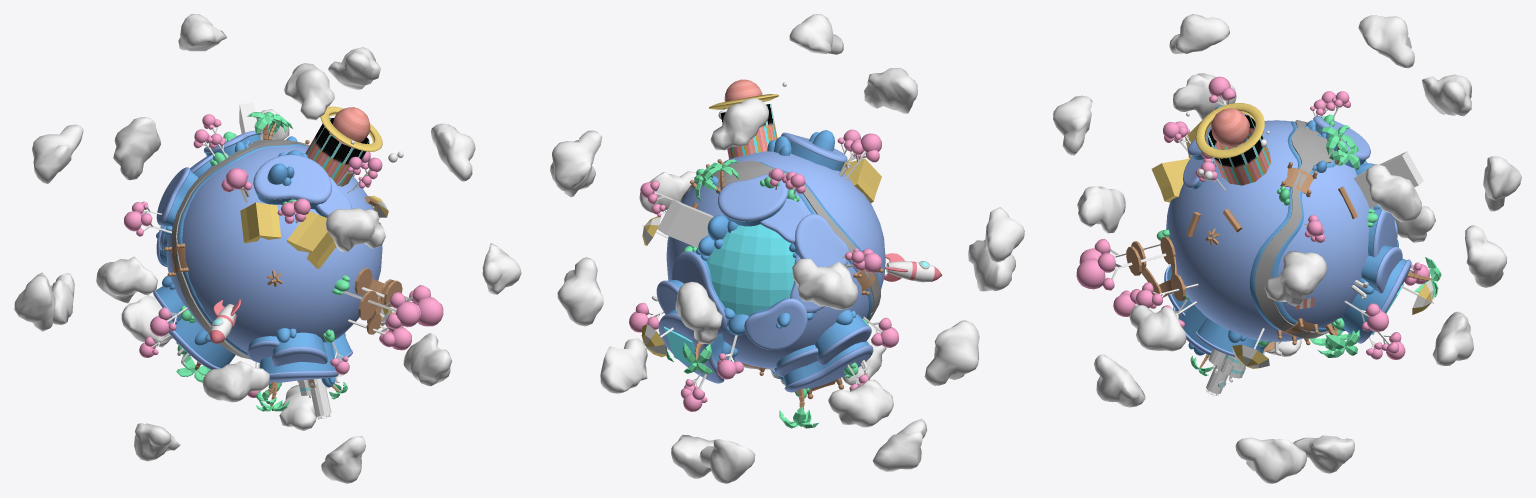
Rendered from main3.fbx.
3 views of the same model, side by side, from view 1: azimuth 30°, elevation 25°; view 2: azimuth 150°, elevation 25°; view 3: azimuth 270°, elevation 25° (orthographic). The views are drawn at different scales.
Visible parts, largest first — view 1: ground, walkable, raisedPlatform9, cloud_p1, cloud_p17, cloud_p21, cloud_p5, cloud_p3, cloud_p7, riverTrigger, tag_trigger, cloud_p16 (+28 smaller); view 2: ground, skatingPondTrigger, raisedPlatform, cloud_p7, cloud_p13, raisedPlatform5, cloud_p9, cloud_p10, raisedPlatform8, cloud_p16, cloud_p15, cloud_p17 (+35 smaller); view 3: ground, walkable (×2), riverTrigger, cloud_p16, cloud_p6, cloud_p15, cloud_p4, cloud_p8, tag_trigger, cloud_p10, cloud_p, cloud_p21 (+28 smaller).
Boxes of the visible parts, bbox=[...] form: ground: bbox=[166, 146, 382, 352]; walkable: bbox=[343, 268, 443, 350]; raisedPlatform9: bbox=[253, 154, 331, 209]; cloud_p1: bbox=[325, 208, 385, 252]; cloud_p17: bbox=[113, 117, 160, 180]; cloud_p21: bbox=[202, 361, 269, 402]; cloud_p5: bbox=[96, 256, 157, 303]; cloud_p3: bbox=[283, 63, 334, 120]; cloud_p7: bbox=[32, 124, 83, 183]; riverTrigger: bbox=[171, 139, 309, 359]; tag_trigger: bbox=[305, 117, 369, 186]; cloud_p16: bbox=[403, 333, 451, 386]; ground: bbox=[666, 151, 885, 368]; skatingPondTrigger: bbox=[706, 224, 795, 315]; raisedPlatform: bbox=[717, 174, 788, 226]; cloud_p7: bbox=[792, 258, 858, 310]; cloud_p13: bbox=[924, 320, 979, 385]; raisedPlatform5: bbox=[744, 297, 807, 349]; cloud_p9: bbox=[828, 379, 893, 427]; cloud_p10: bbox=[557, 257, 603, 326]; raisedPlatform8: bbox=[793, 214, 849, 267]; cloud_p16: bbox=[600, 338, 647, 393]; cloud_p15: bbox=[552, 130, 602, 191]; cloud_p17: bbox=[675, 281, 722, 343]; ground: bbox=[1166, 120, 1373, 341]; walkable (×2): bbox=[1076, 162, 1317, 317]; riverTrigger: bbox=[1255, 120, 1334, 338]; cloud_p16: bbox=[1235, 437, 1306, 483]; cloud_p6: bbox=[1264, 251, 1326, 306]; cloud_p15: bbox=[1365, 164, 1421, 221]; cloud_p4: bbox=[1358, 15, 1414, 68]; cloud_p8: bbox=[1129, 305, 1186, 351]; tag_trigger: bbox=[1207, 115, 1270, 185]; cloud_p10: bbox=[1465, 225, 1506, 287]; cloud_p: bbox=[1094, 354, 1145, 407]; cloud_p21: bbox=[1077, 186, 1125, 233].
Bounding box in the file's own units: 702 × 644 × 636.
